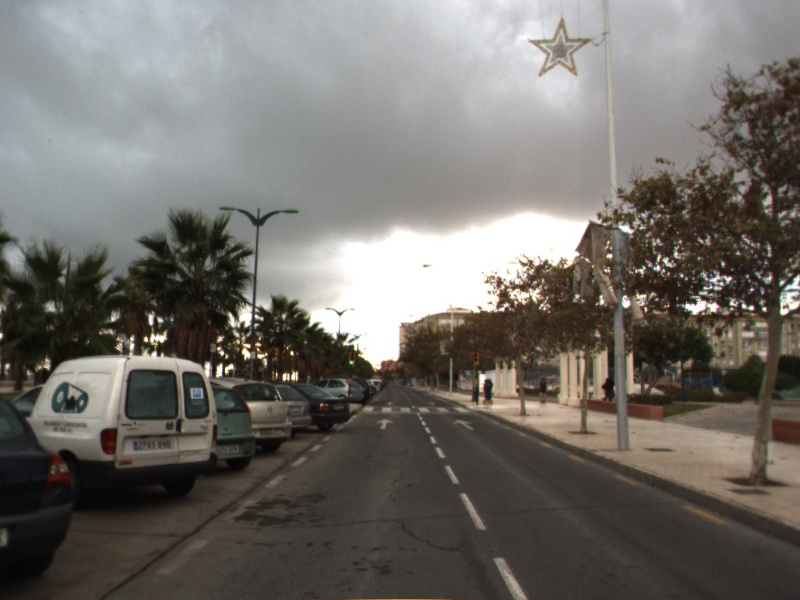STRAIGHT: (451, 417, 477, 432), (374, 417, 397, 431)
